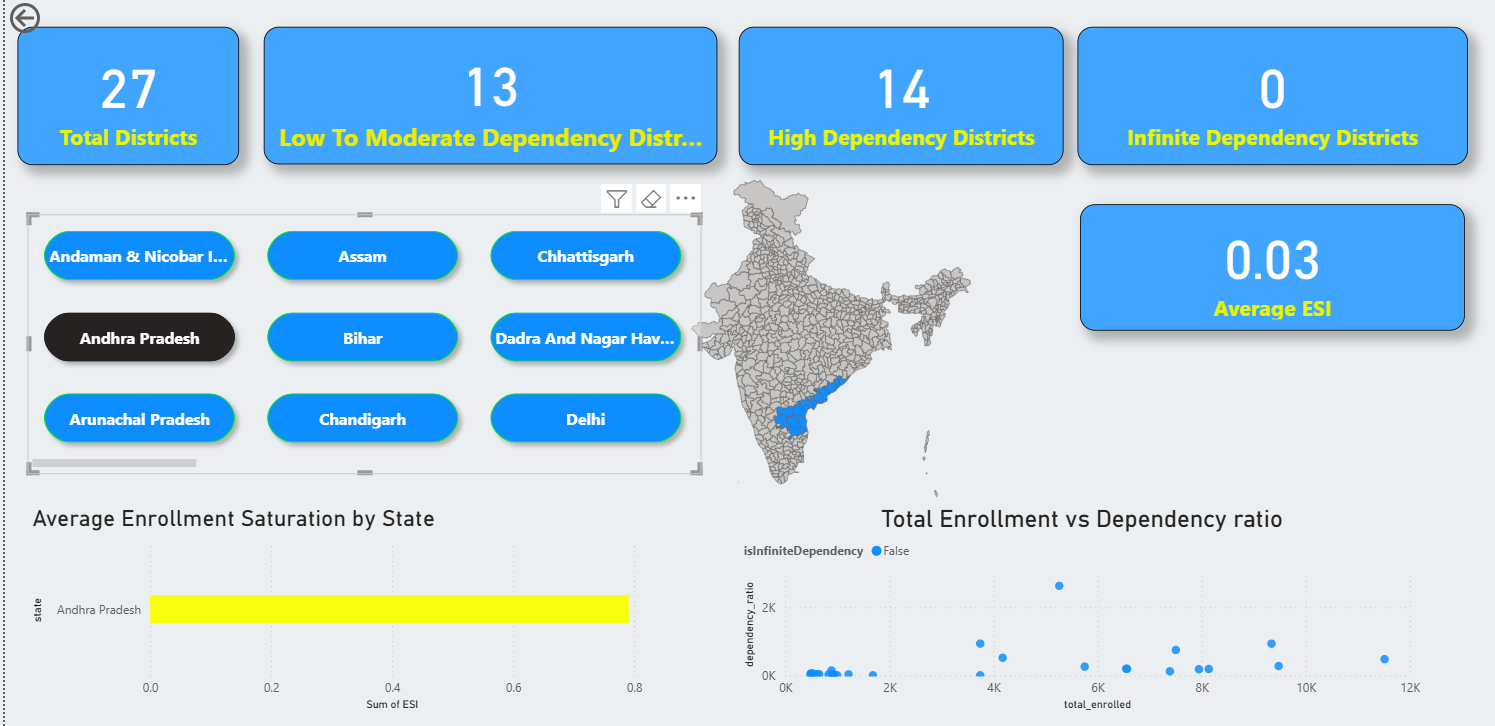

The page's visual inventory and layout, read from the dashboard file:
{"tool":"powerbi","page":{"name":"Demographic Overview & Preprocessing","canvas":[1500,730],"ordinal":0},"visuals":[{"type":"card","fields":{"Values":["uidai_district_enrollment_profile.Total Districts"]},"box":[12.5,28.8,221.2,138.8],"z":0},{"type":"card","fields":{"Values":["uidai_district_enrollment_profile.Average ESI"]},"box":[1075,206.2,385,126.2],"z":1000},{"type":"card","fields":{"Values":["uidai_district_enrollment_profile.High Dependency Districts"]},"box":[733.8,28.8,325,138.8],"z":2000},{"type":"card","fields":{"Values":["uidai_district_enrollment_profile.Infinite Dependency Districts"]},"box":[1072.5,28.8,390,138.8],"z":3000},{"type":"advancedSlicerVisual","fields":{"Values":["uidai_district_enrollment_profile.state"]},"box":[22.5,216.2,673.8,260],"z":4000},{"type":"actionButton","box":[0,0,100,40],"z":5000},{"type":"scatterChart","title":"Total Enrollment vs Dependency ratio","fields":{"X":["uidai_district_enrollment_profile.total_enrolled"],"Y":["uidai_district_enrollment_profile.dependency_ratio"],"Series":["uidai_district_enrollment_profile.isInfiniteDependency"]},"box":[733.8,506.2,686.2,211.2],"z":6000},{"type":"clusteredBarChart","title":"Average Enrollment Saturation by State","fields":{"Category":["uidai_district_enrollment_profile.state"],"Y":["Sum(uidai_district_enrollment_profile.ESI)"]},"box":[22.5,506.2,620,211.2],"z":7000},{"type":"card","fields":{"Values":["uidai_district_enrollment_profile.Low To Moderate Dependency Districts"]},"box":[258.8,28.8,453.8,137.5],"z":8000},{"type":"shapeMap","fields":{"Category":["uidai_district_enrollment_profile.state"],"Value":["Avg(uidai_district_enrollment_profile.dependency_ratio)"]},"box":[385,160,882.5,361.2],"z":9000}]}

Visuals, with their boxes in screenshot pixels (x1, y1, x2, y2), scaled from the page's 1500x730 canvas onto the 1495x726 screenshot:
card - uidai_district_enrollment_profile.Total Districts: (x1=12, y1=29, x2=233, y2=167)
card - uidai_district_enrollment_profile.Average ESI: (x1=1071, y1=205, x2=1455, y2=331)
card - uidai_district_enrollment_profile.High Dependency Districts: (x1=731, y1=29, x2=1055, y2=167)
card - uidai_district_enrollment_profile.Infinite Dependency Districts: (x1=1069, y1=29, x2=1458, y2=167)
advancedSlicerVisual - uidai_district_enrollment_profile.state: (x1=22, y1=215, x2=694, y2=474)
actionButton: (x1=0, y1=0, x2=100, y2=40)
"Total Enrollment vs Dependency ratio" scatterChart: (x1=731, y1=503, x2=1415, y2=713)
"Average Enrollment Saturation by State" clusteredBarChart: (x1=22, y1=503, x2=640, y2=713)
card - uidai_district_enrollment_profile.Low To Moderate Dependency Districts: (x1=258, y1=29, x2=710, y2=165)
shapeMap - uidai_district_enrollment_profile.state x Avg(uidai_district_enrollment_profile.dependency_ratio): (x1=384, y1=159, x2=1263, y2=518)
